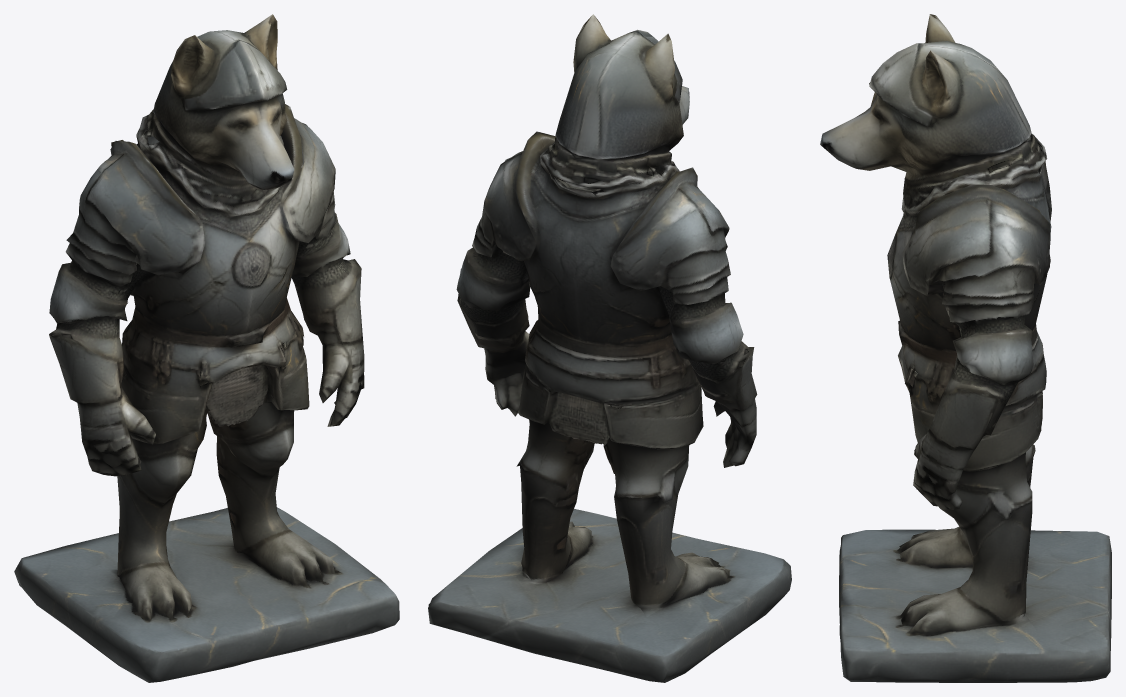
Rendered from char-coinhound.glb.
3 renders of one model, left to right at view 1: azimuth 30°, elevation 25°; view 2: azimuth 150°, elevation 25°; view 3: azimuth 270°, elevation 25°, orthographic. The views are drawn at different scales.
Parts seen in each view (by area): view 1: geometry_0; view 2: geometry_0; view 3: geometry_0.
Boxes of the visible parts, x1,y1,x2,y2 form: geometry_0: (14,14,399,682); geometry_0: (428,14,791,682); geometry_0: (820,14,1111,682).
Bounding box in the file's own units: 0.5196 × 0.9974 × 0.4426.
1 material, 1 textured.
